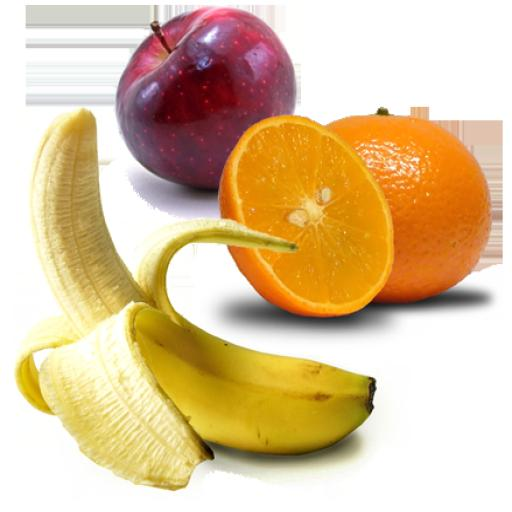apple: (117, 7, 295, 189)
banana: (16, 108, 373, 489)
orange: (330, 109, 489, 298)
